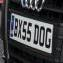5: (22, 20, 27, 42), (27, 21, 32, 43)
D: (34, 23, 39, 46)
G: (45, 26, 51, 48)
O: (39, 25, 45, 48)
X: (18, 18, 22, 39)
